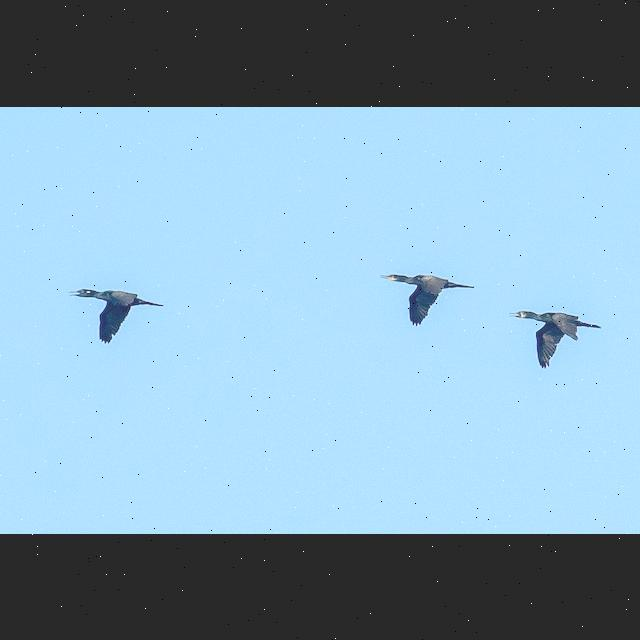cormorant: (372, 264, 486, 328), (508, 301, 606, 371), (61, 284, 176, 342)
